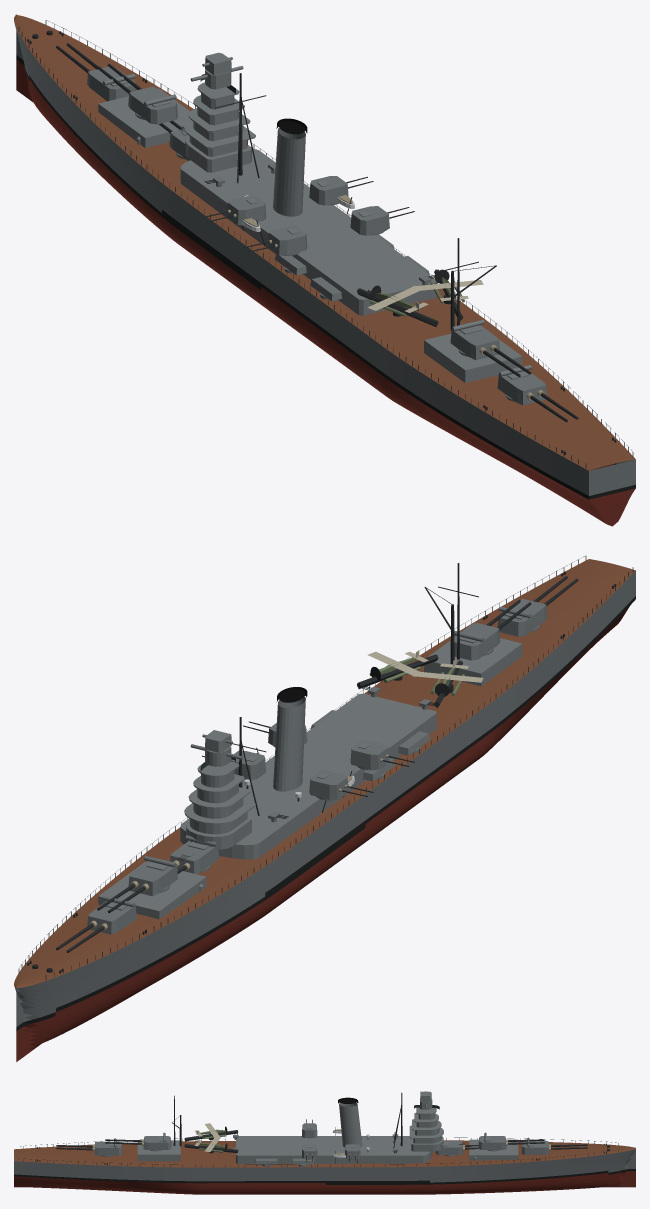
File: mogami.glb
The picture shows the model from 3 angles, top to bottom: view 1: azimuth 30°, elevation 25°; view 2: azimuth 150°, elevation 25°; view 3: azimuth 270°, elevation 25°; orthographic projection. The views are drawn at different scales.
Visible parts, largest first — view 1: Hull, Turret2, Turret4, Turret5, Turret1, Mount4, Mount3, Mount1, Mount2; view 2: Hull, Turret2, Turret4, Turret5, Turret1, Turret3, Mount2, Mount4; view 3: Hull, Turret5, Turret4, Turret2, Turret1, Turret3, Mount3, Mount4, Mount1, Torpedo3.
Part boxes in pixels (box(x1,y1,x2,y2)): Hull: box(14, 14, 635, 526); Turret2: box(97, 63, 177, 124); Turret4: box(450, 320, 531, 377); Turret5: box(497, 365, 578, 422); Turret1: box(56, 43, 136, 101); Mount4: box(243, 225, 307, 255); Mount3: box(350, 206, 414, 235); Mount1: box(309, 176, 373, 205); Mount2: box(202, 195, 266, 225); Hull: box(14, 555, 635, 1061); Turret2: box(97, 856, 177, 913); Turret4: box(454, 599, 531, 660); Turret5: box(498, 576, 578, 636); Turret1: box(56, 895, 136, 952); Turret3: box(170, 835, 219, 874); Mount2: box(309, 770, 373, 800); Mount4: box(350, 740, 414, 770); Hull: box(14, 1092, 635, 1194); Turret5: box(56, 1138, 122, 1156); Turret4: box(105, 1132, 171, 1151); Turret2: box(478, 1132, 544, 1151); Turret1: box(521, 1137, 587, 1154); Turret3: box(435, 1141, 478, 1156); Mount3: box(302, 1144, 317, 1161); Mount4: box(302, 1119, 317, 1138); Mount1: box(345, 1144, 360, 1161); Torpedo3: box(255, 1158, 277, 1166).
Bounding box in the file's own units: 32.5 × 33.9 × 203.
